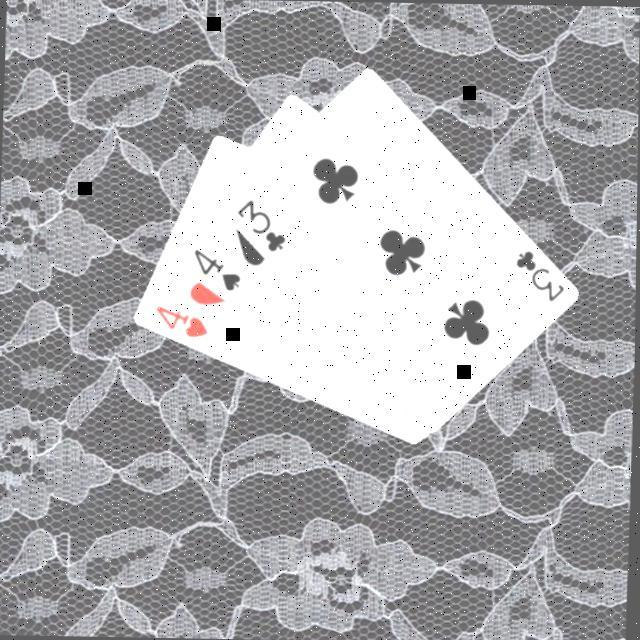3C: (232, 196, 291, 256), (511, 247, 569, 307)
4H: (152, 303, 212, 342)
4S: (190, 247, 246, 296)
